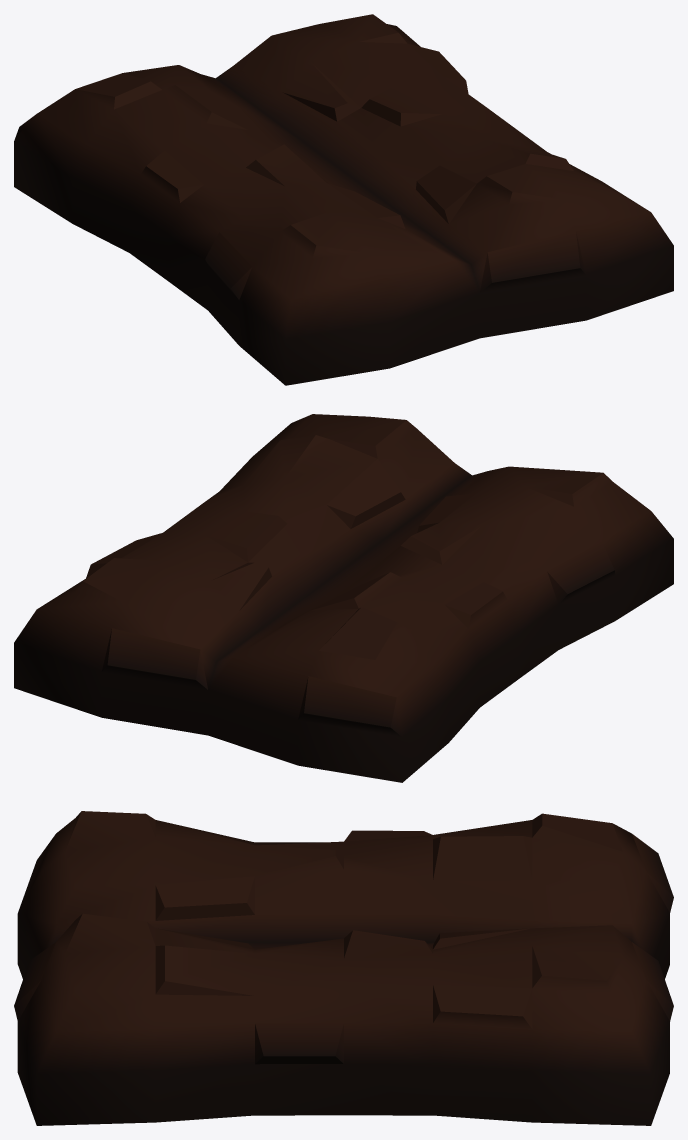
The model's file is Crop3x2.fbx.
3 renders of one model, top to bottom at view 1: azimuth 30°, elevation 25°; view 2: azimuth 150°, elevation 25°; view 3: azimuth 270°, elevation 25°, orthographic. The views are drawn at different scales.
Parts seen in each view (by area): view 1: Crop3x2; view 2: Crop3x2; view 3: Crop3x2.
Boxes of the visible parts, x1,y1,x2,y2 form: Crop3x2: (14,14,673,385); Crop3x2: (14,414,673,782); Crop3x2: (14,811,673,1125).
Bounding box in the file's own units: 396 × 116 × 515.
